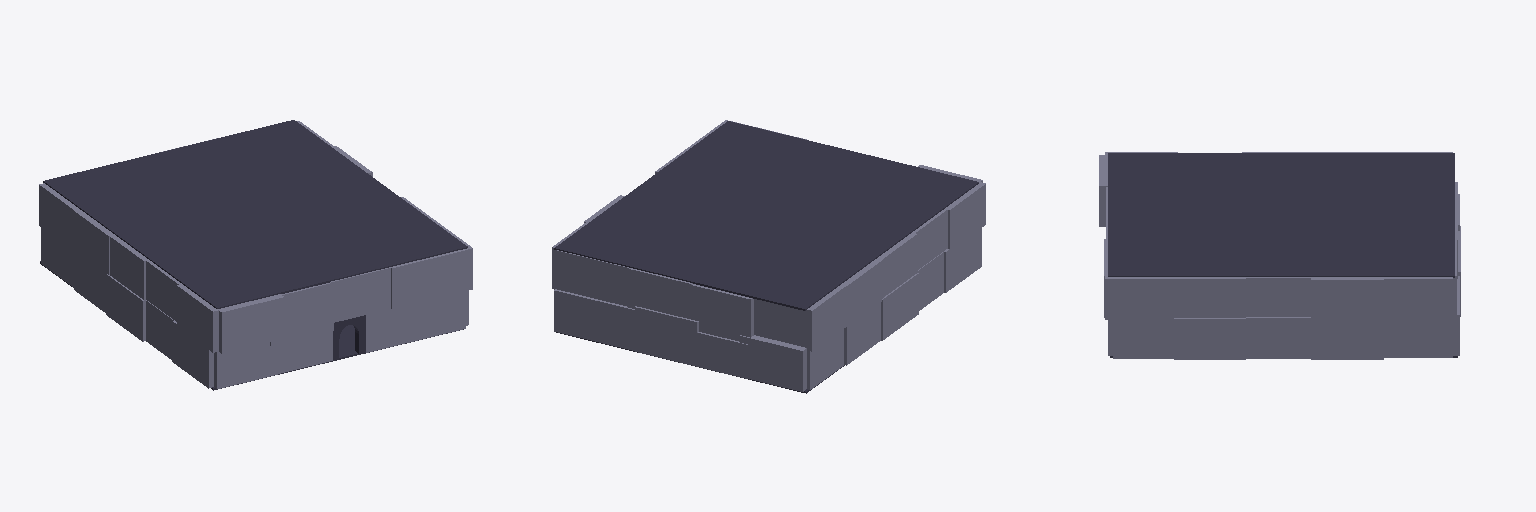
Rendered from Dungeon.obj.
3 renders of one model, left to right at view 1: azimuth 30°, elevation 25°; view 2: azimuth 150°, elevation 25°; view 3: azimuth 270°, elevation 25°, orthographic.
Parts seen in each view (by area): view 1: block, block_gate%; view 2: block; view 3: block.
Part boxes in pixels (x1,y1,x2,y2): block: (39,120,472,390); block_gate%: (333,315,365,360); block: (552,120,985,393); block: (1099,152,1460,359).
Bounding box in the file's own units: 35.5 × 10.64 × 42.1.